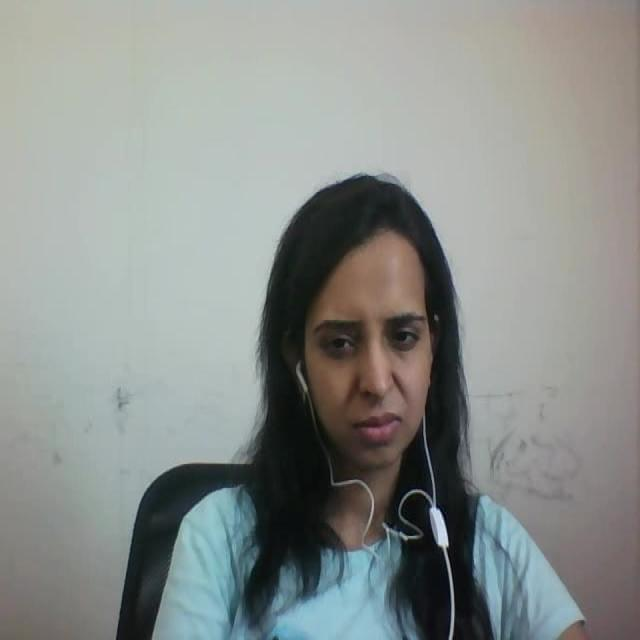Engaged: (253, 149, 470, 490)
